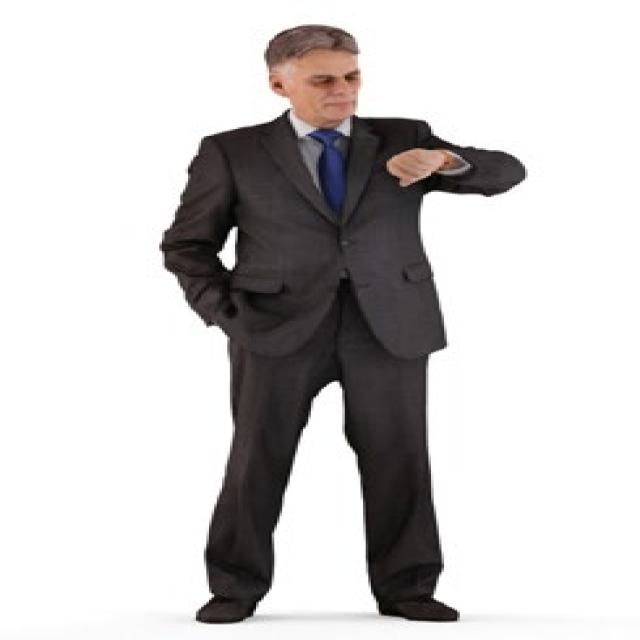standing: (152, 23, 540, 628)
